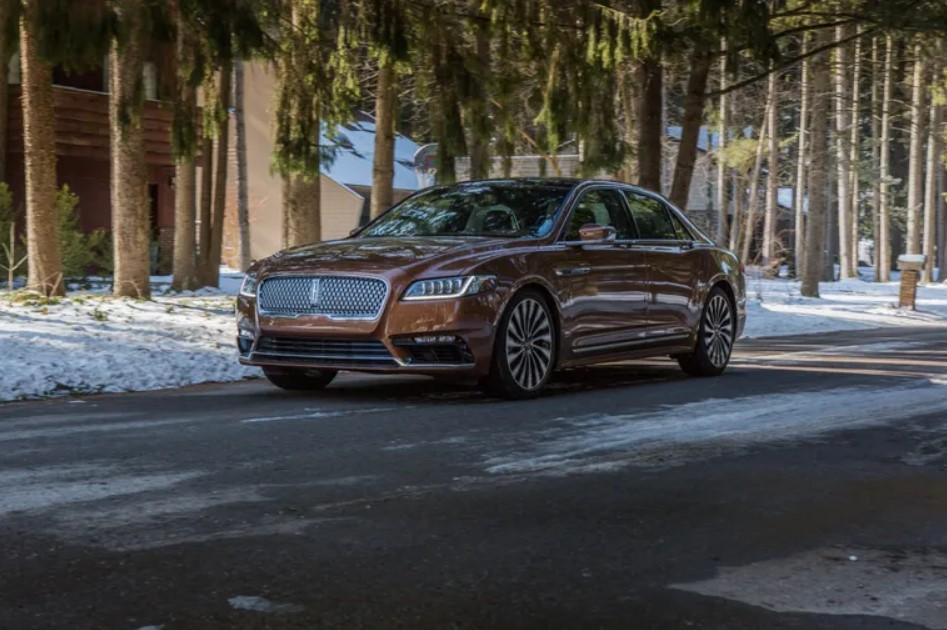lincoln: (306, 275, 323, 310)
